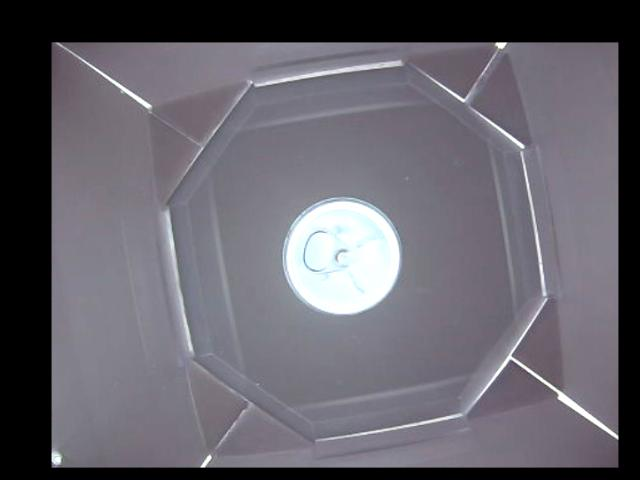Bottle: (279, 197, 402, 317)
